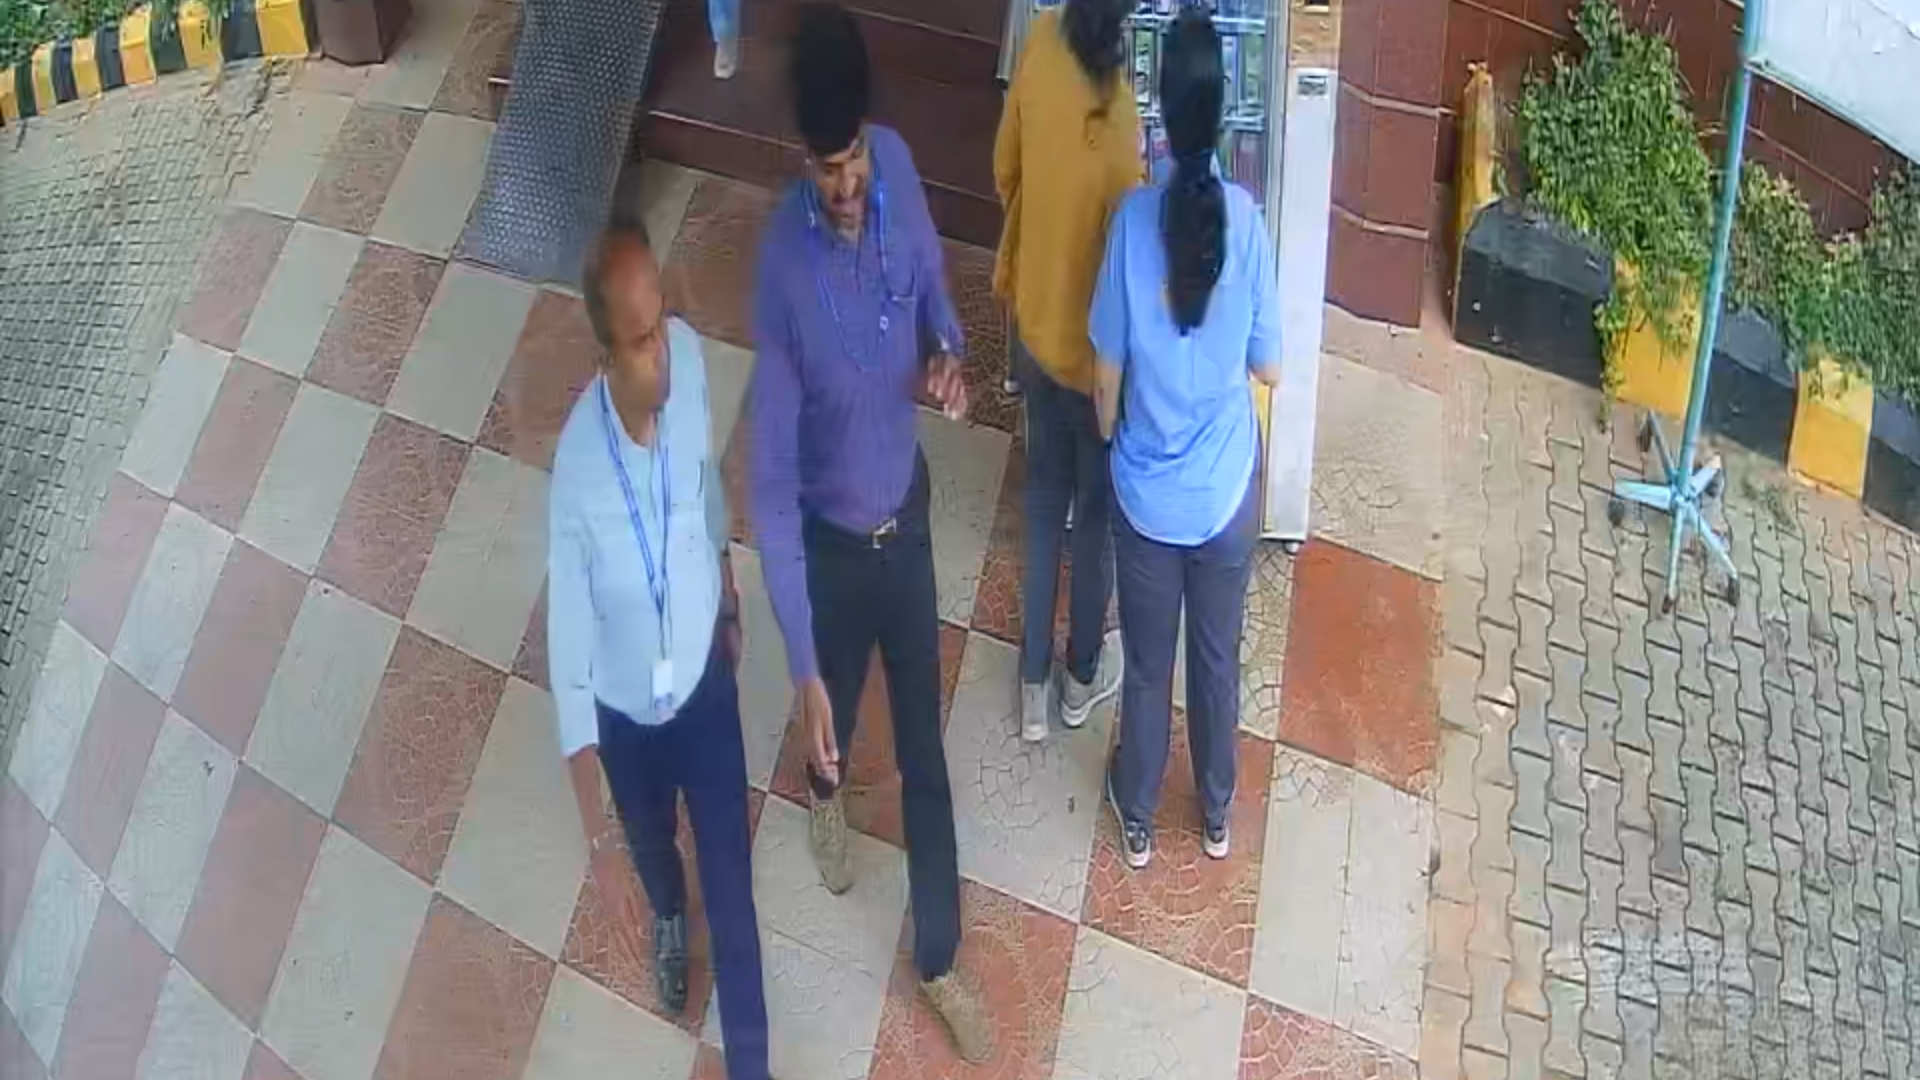not intruder: (753, 21, 1006, 1039), (537, 235, 802, 1080)
